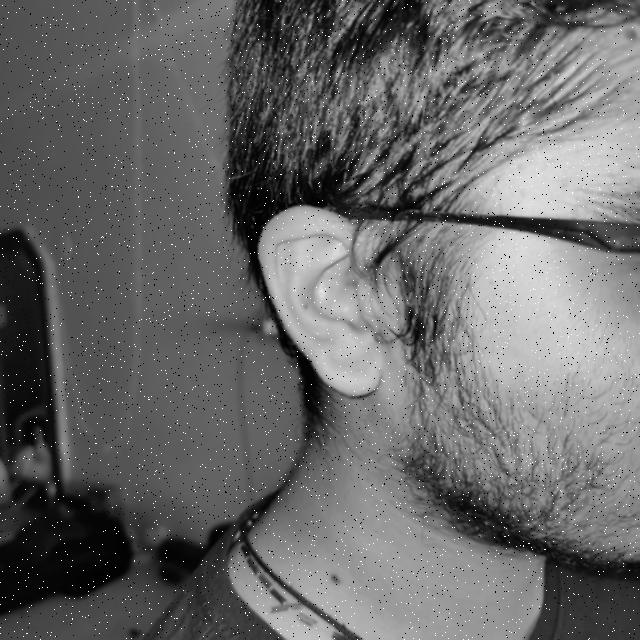ear: (259, 206, 381, 395)
